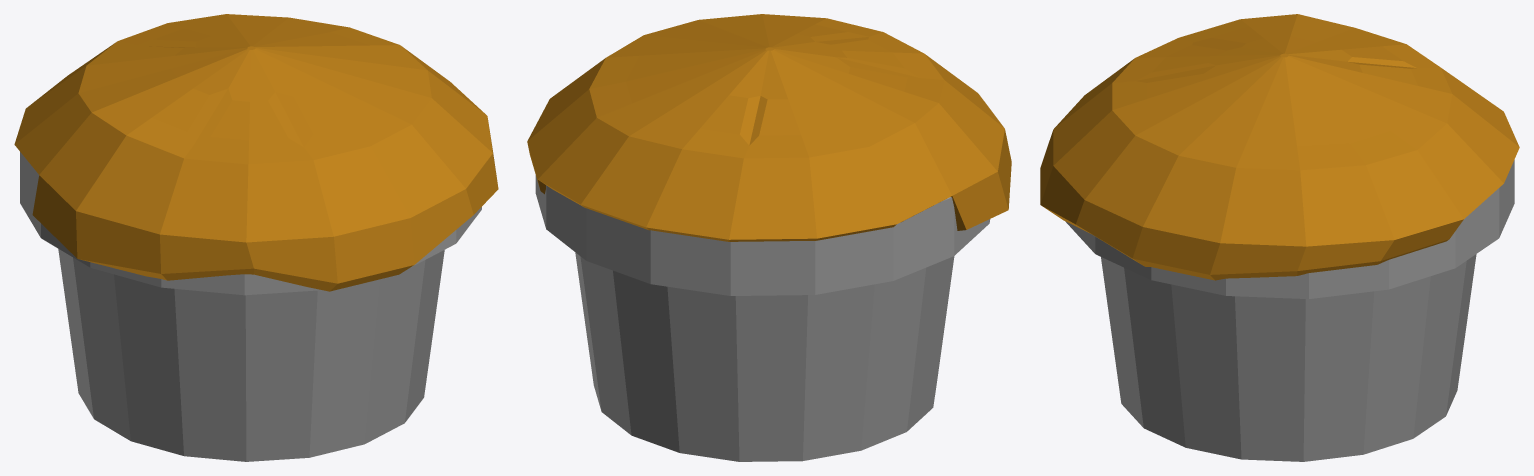
The model's file is MeatPie.fbx.
The picture shows the model from 3 angles, left to right: view 1: azimuth 30°, elevation 25°; view 2: azimuth 150°, elevation 25°; view 3: azimuth 270°, elevation 25°; orthographic projection. The views are drawn at different scales.
Parts seen in each view (by area): view 1: MeatPie; view 2: MeatPie; view 3: MeatPie.
Part boxes in pixels (x1,y1,x2,y2): MeatPie: [14, 14, 498, 461]; MeatPie: [527, 14, 1011, 461]; MeatPie: [1040, 14, 1519, 461].
Size of the model in its own units: 775 by 601 by 782.
